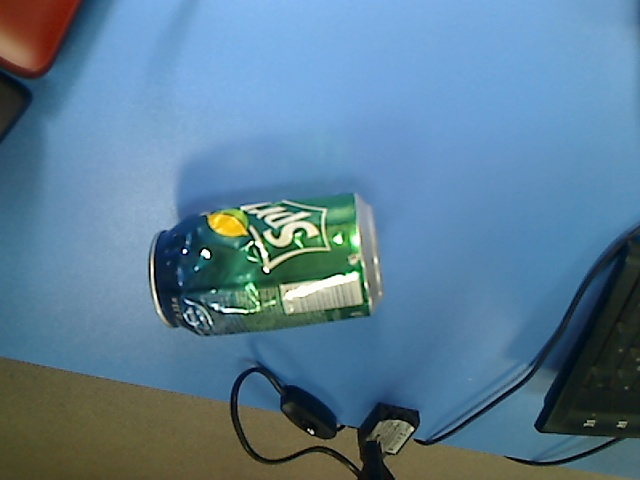can: (146, 189, 388, 339)
